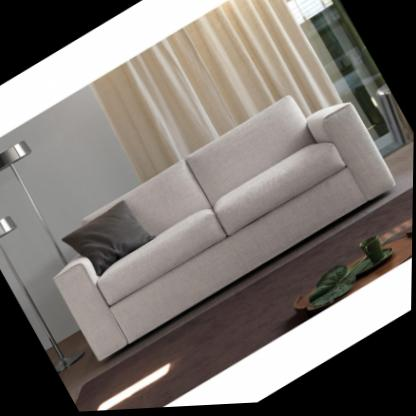Curtains: (90, 0, 343, 184)
Lamp: (0, 187, 95, 377), (0, 122, 103, 286)
Sofa: (32, 66, 402, 368)
